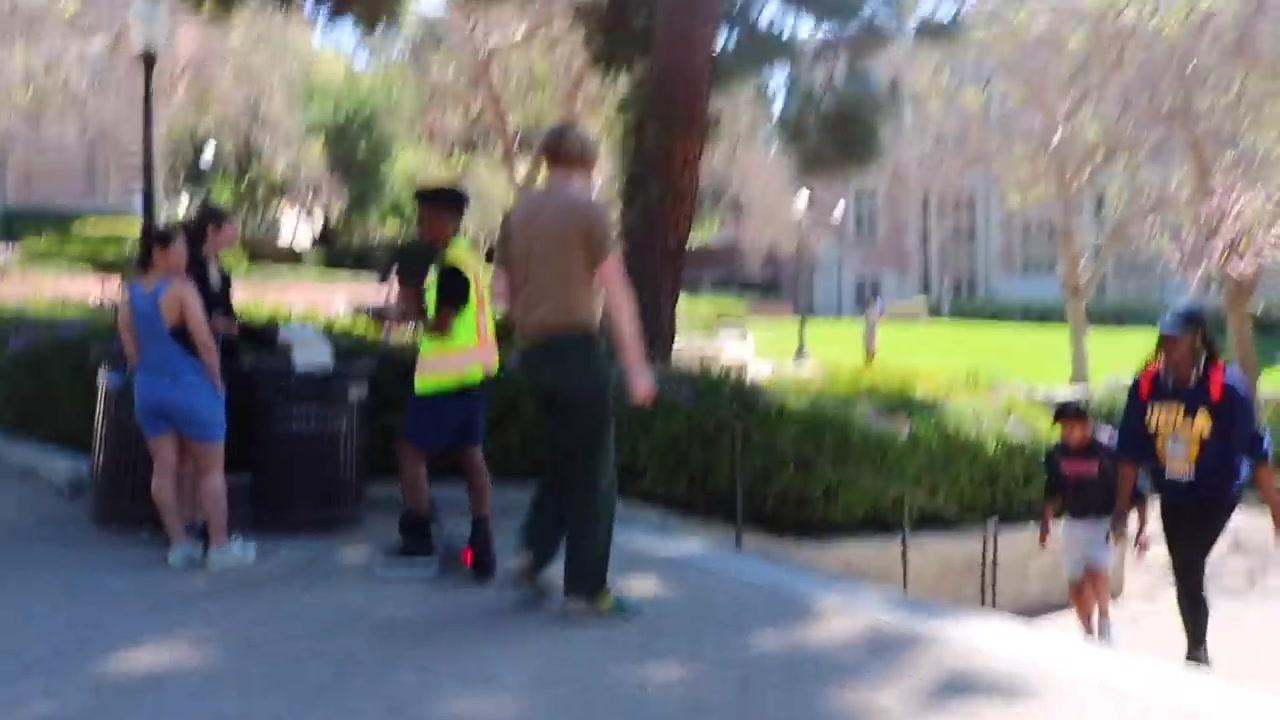vest: (408, 238, 498, 394)
